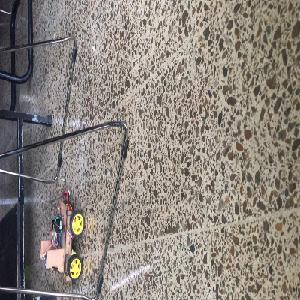Robot: (40, 199, 84, 280)
